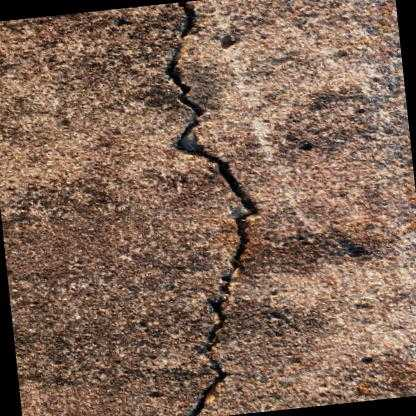crack: (164, 1, 257, 416)
